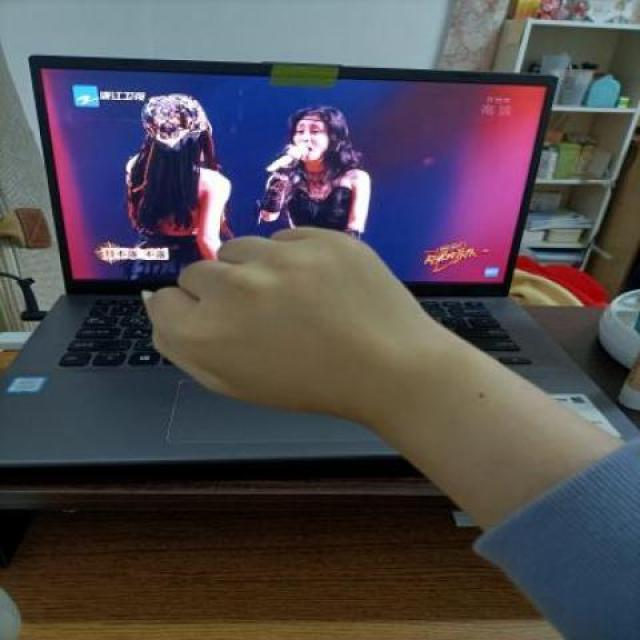Closed Hand: (120, 198, 461, 430)
